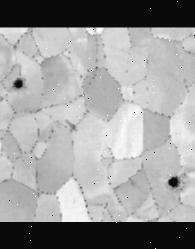good_void: (12, 67, 29, 98), (161, 174, 180, 193), (64, 118, 78, 132)
